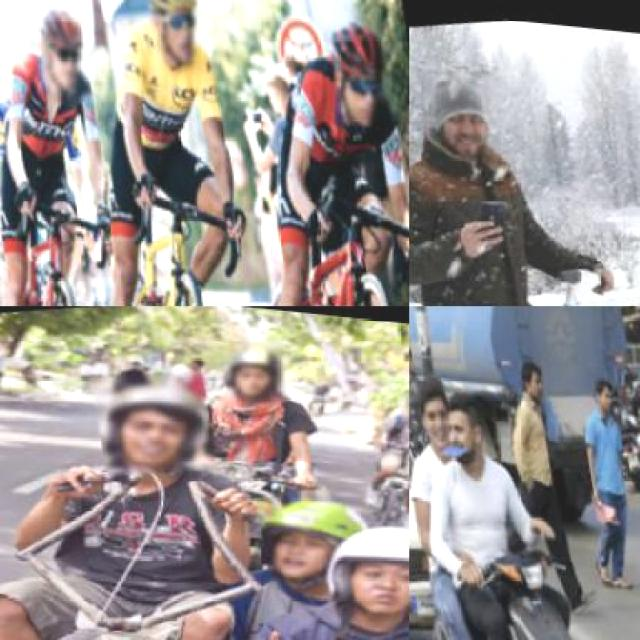With Helmet: (254, 466, 386, 596), (90, 353, 218, 482), (314, 496, 408, 626), (317, 0, 400, 123), (30, 0, 99, 105), (218, 326, 292, 405), (140, 0, 214, 63)
Without Helmet: (417, 54, 505, 164), (440, 378, 486, 442), (412, 368, 454, 430), (394, 376, 408, 418)
